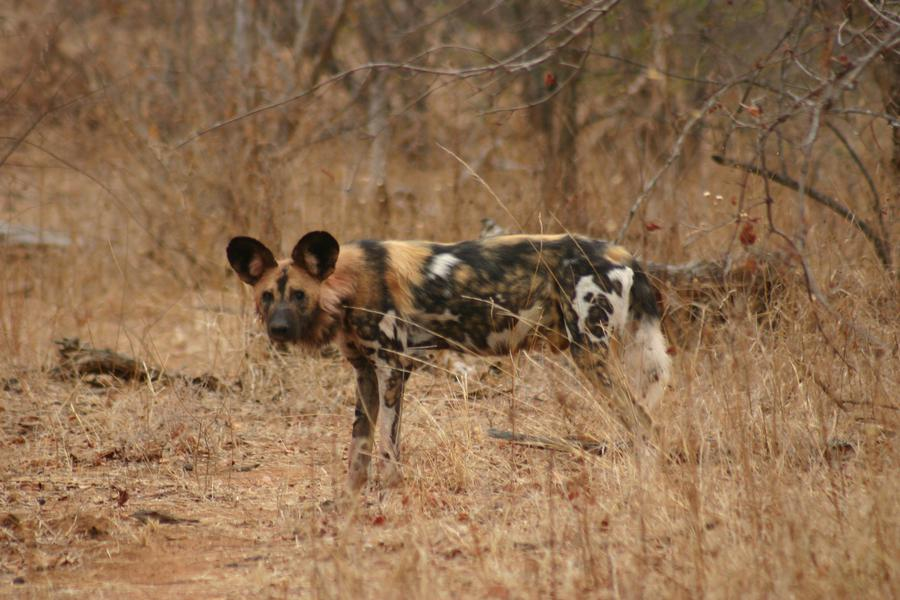wilddog: (250, 237, 630, 365)
